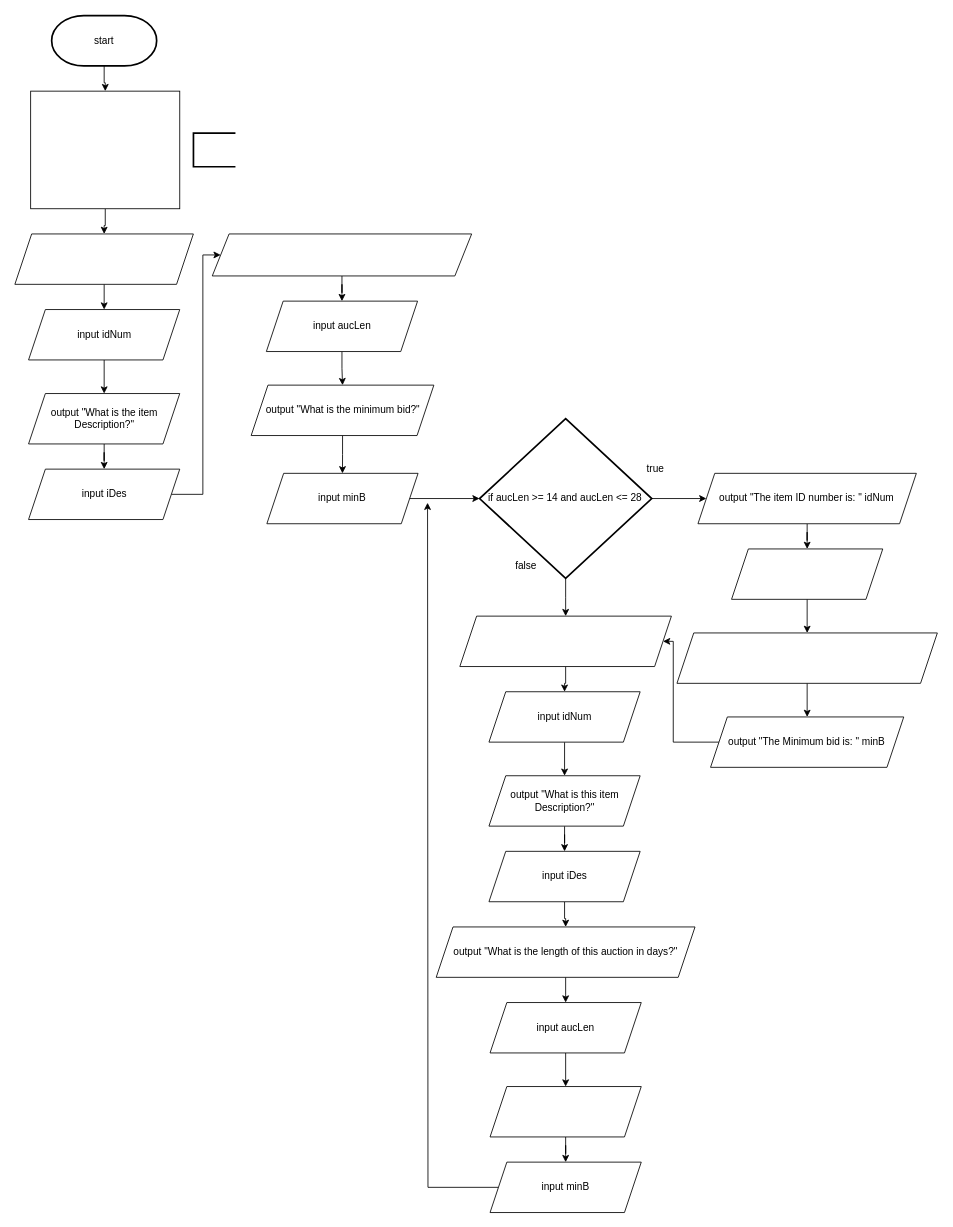
The diagram is 953 pixels wide and 1227 high, and some of its shapes have lost their labels. The shapes that lost their labels are listed below. From the top down, each one's centre as x and y in pixels, then its label:
(105,149): Declarations num idNum string iDes num aucLen num minB
(214,149): //Their is no end to this program
(103,258): output "What is the first item's ID number?"
(341,254): output "What is the length of the auction in days?"
(807,573): output "Description: " iDes
(565,641): output "What is the next items ID num?"
(806,657): output "This auction will be up for " aucLen " days"
(565,1111): output "What is this items minimum bid?"
